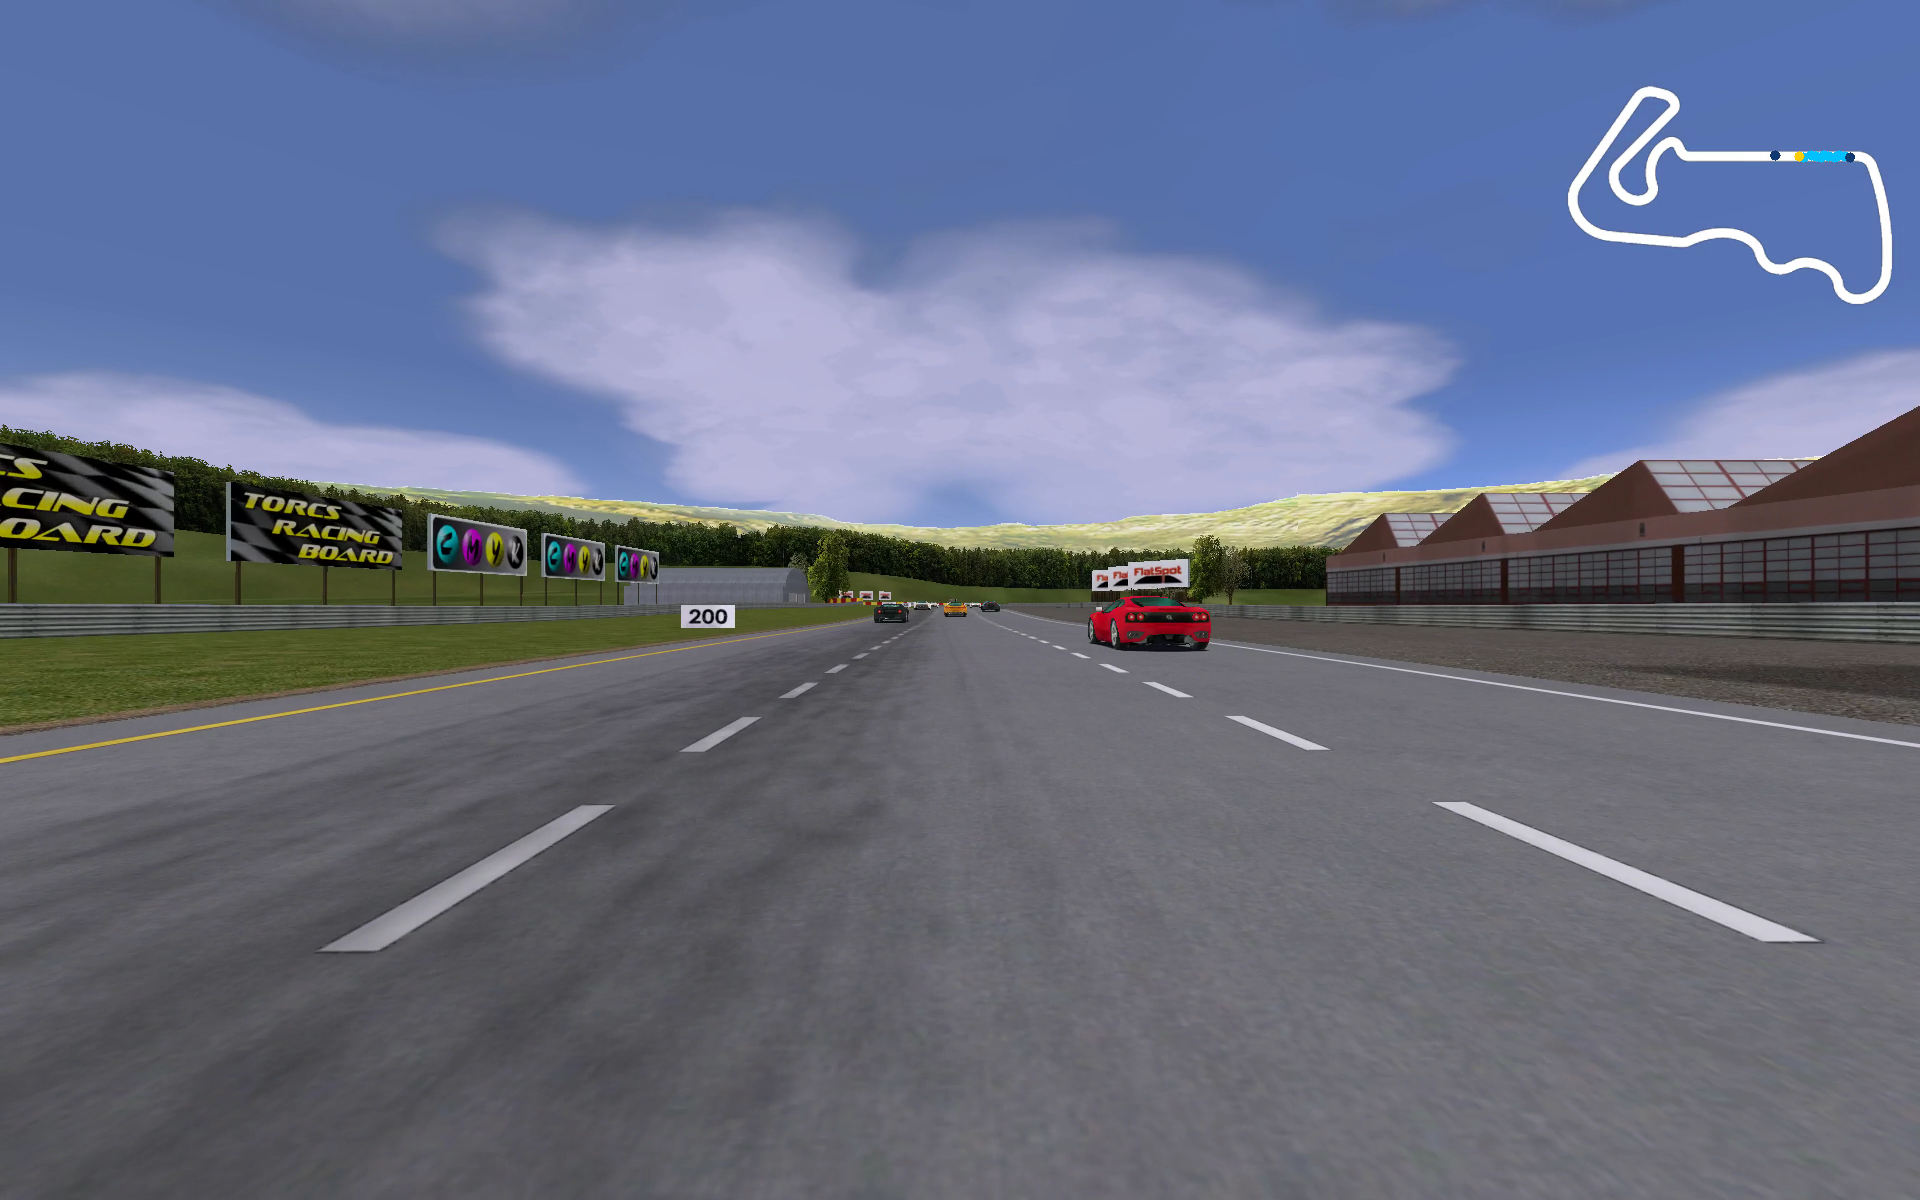car: (1085, 588, 1215, 651), (874, 600, 914, 624), (941, 601, 969, 617), (979, 599, 999, 612), (916, 600, 932, 611)
